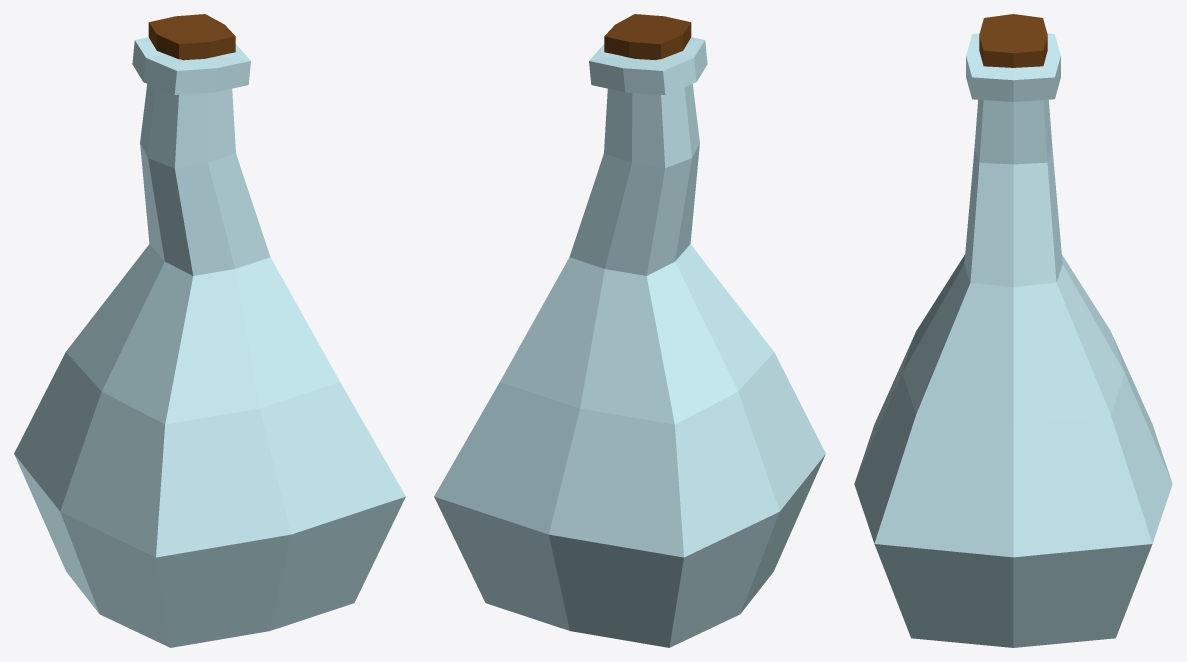
File: Potion4.fbx
The picture shows the model from 3 angles, left to right: view 1: azimuth 30°, elevation 25°; view 2: azimuth 150°, elevation 25°; view 3: azimuth 270°, elevation 25°; orthographic projection. The views are drawn at different scales.
Visible parts, largest first — view 1: Potion1; view 2: Potion1; view 3: Potion1.
Boxes of the visible parts, box(x1,y1,x2,y2) form: Potion1: box(14, 14, 405, 647); Potion1: box(434, 14, 825, 647); Potion1: box(854, 14, 1172, 647).
Size of the model in its own units: 14 by 25 by 13.
